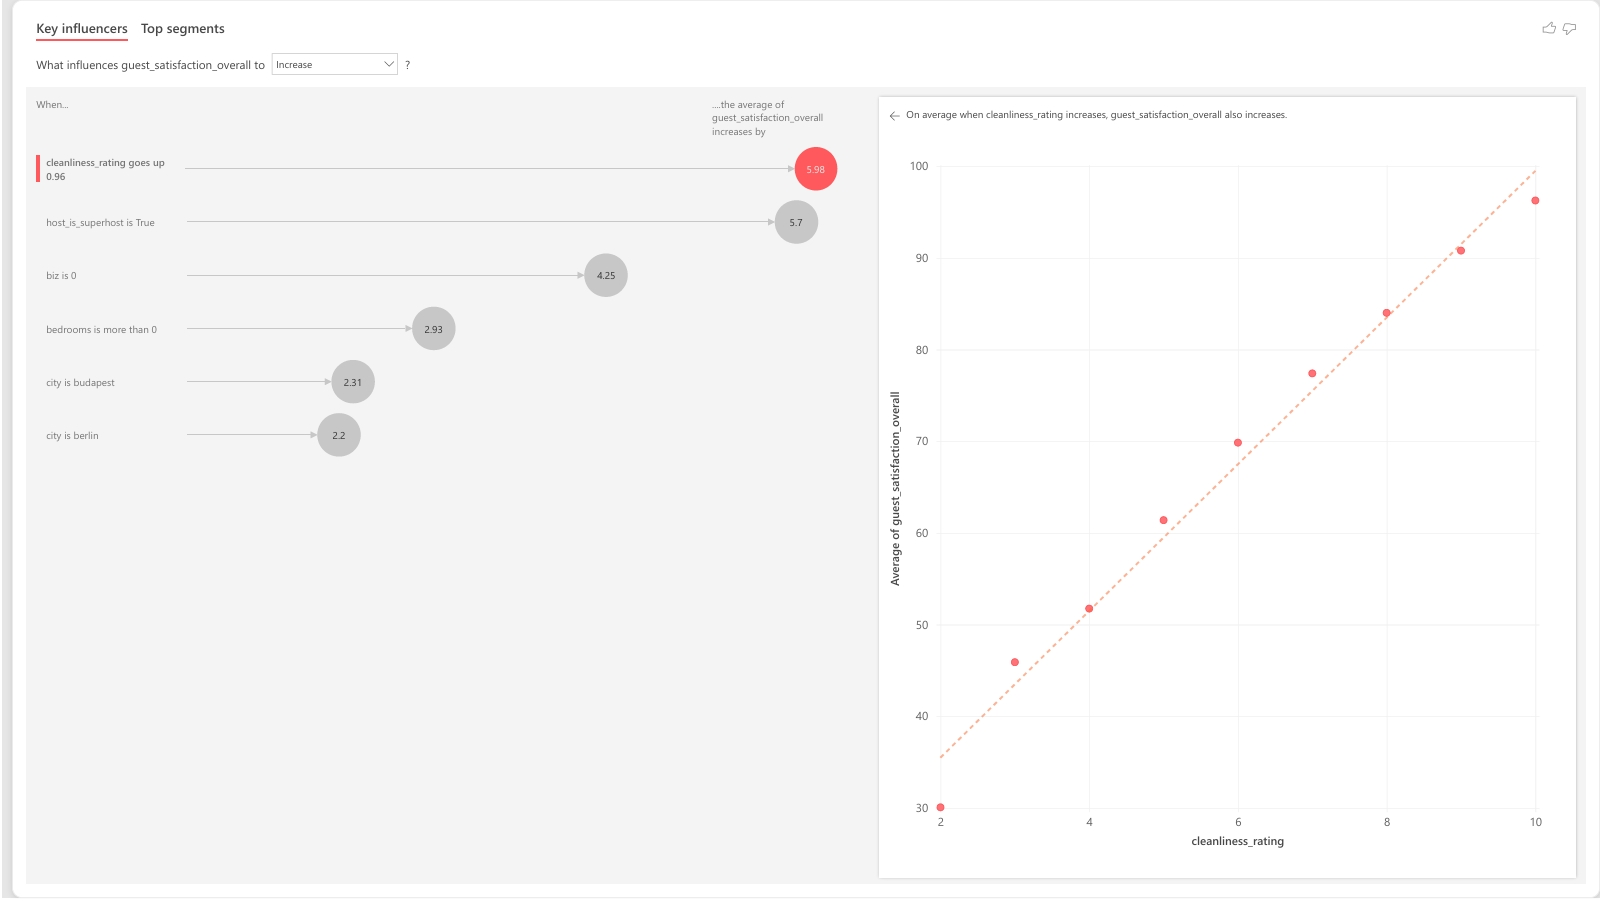

The dashboard page shown, as its layout file describes it:
{"tool":"powerbi","page":{"name":"Satisfaction","canvas":[1920,1080],"ordinal":2},"visuals":[{"type":"keyDriversVisual","fields":{"ExplainBy":["dim_city.city","dim_room_type.room_type","dim_day_type.day_type","fact_listings.person_capacity","fact_listings.bedrooms","fact_listings.dist","fact_listings.metro_dist","fact_listings.attr_index_norm","fact_listings.rest_index_norm","fact_listings.cleanliness_rating","fact_listings.host_is_superhost","fact_listings.biz"],"Target":["fact_listings.guest_satisfaction_overall"]},"box":[10.9,0,1909.2,1080.4],"z":0}]}

Visuals, with their boxes in screenshot pixels (x1, y1, x2, y2), scaled from the page's 1920x1080 canvas onto the 1600x901 screenshot:
keyDriversVisual - dim_city.city x dim_room_type.room_type: box=[9, 0, 1599, 900]
